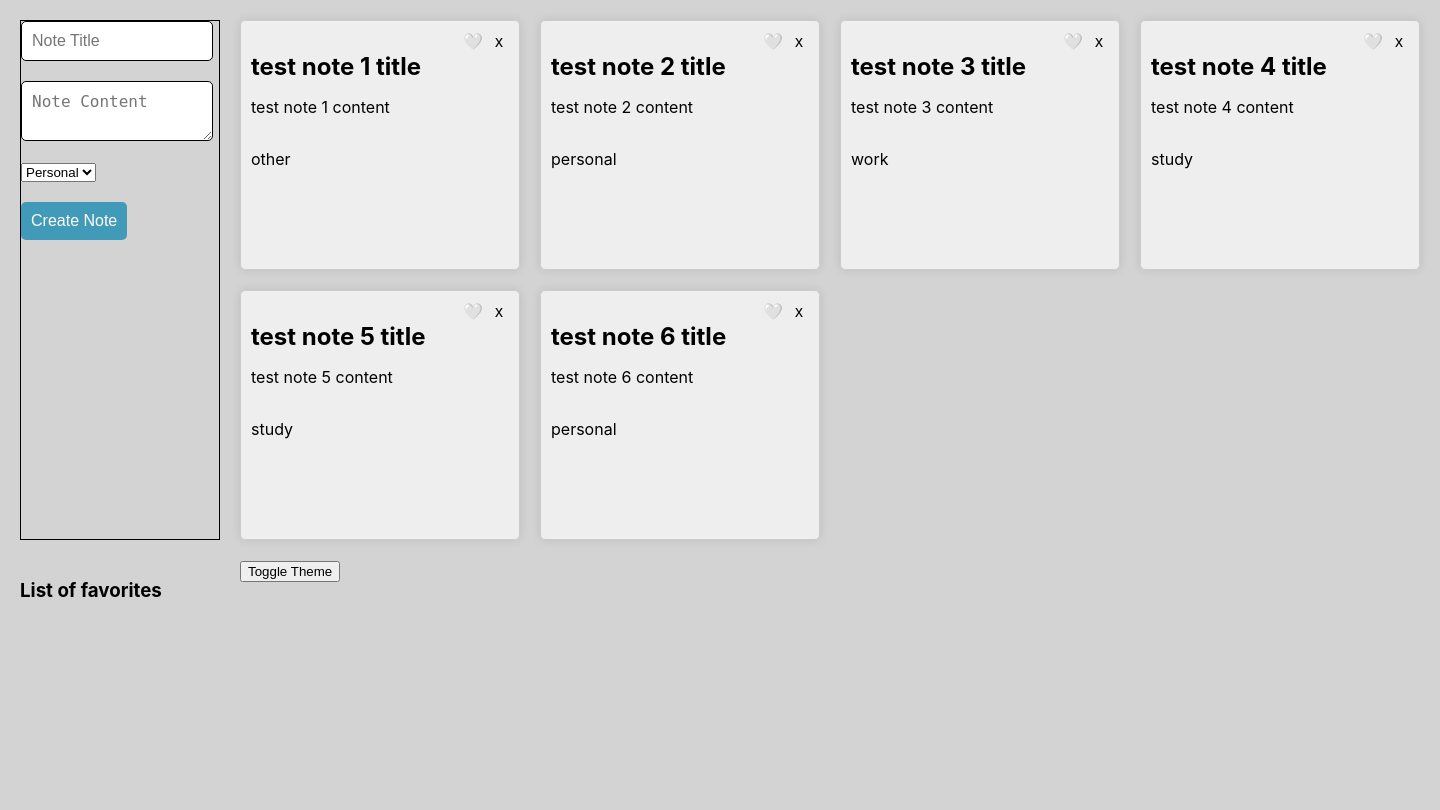
Scenario: Create StickyNote › the list of favorites is correctly updated when the button is clicked
Click the button with test id "favorite-note-2" at (773, 42), box top-left (757, 31), bottom-right (789, 52)
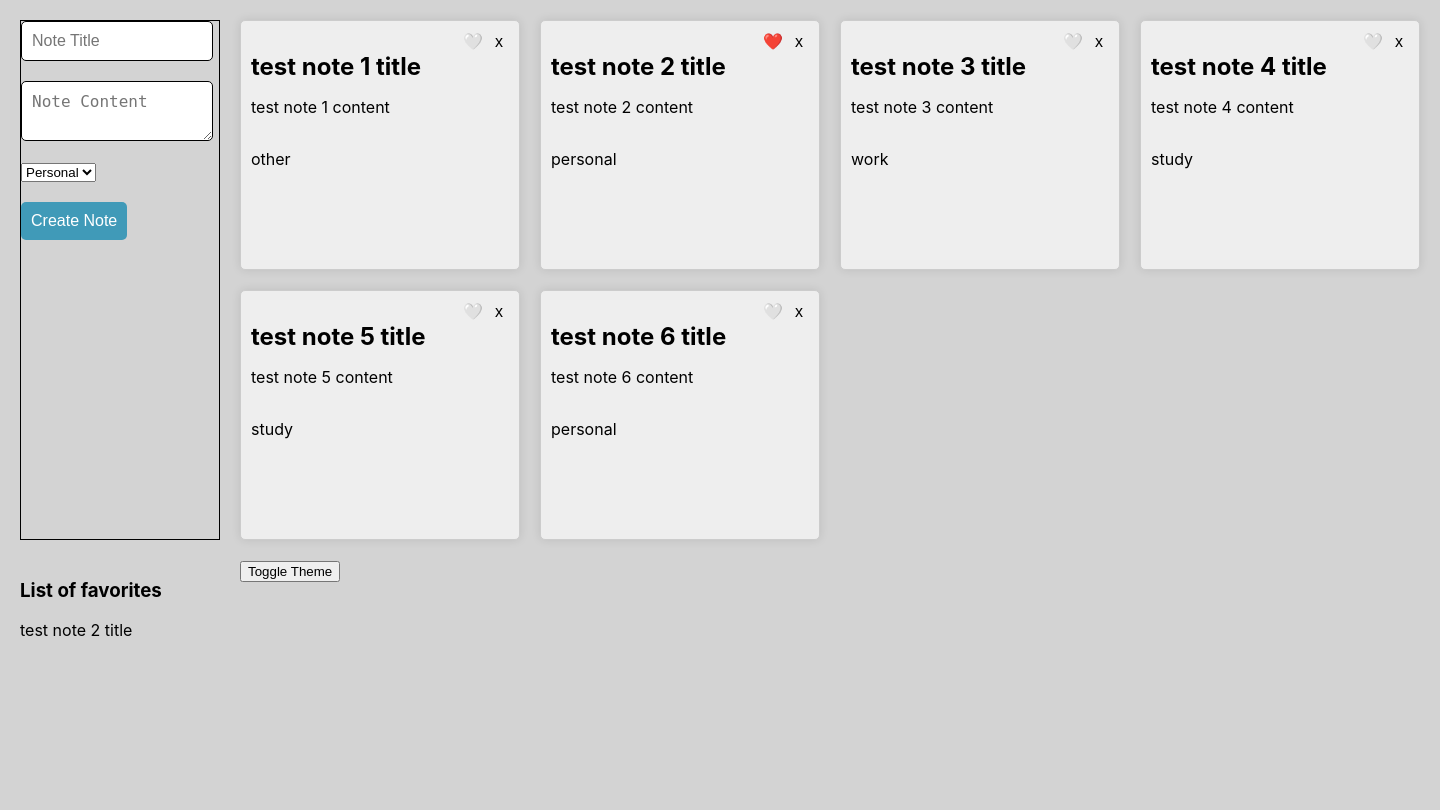
Now the button with test id "favorite-note-2" reads "❤️", box top-left (757, 31), bottom-right (789, 52)
Now the text with test id "favorite-title" reads "test note 2 title", box top-left (20, 620), bottom-right (132, 640)
